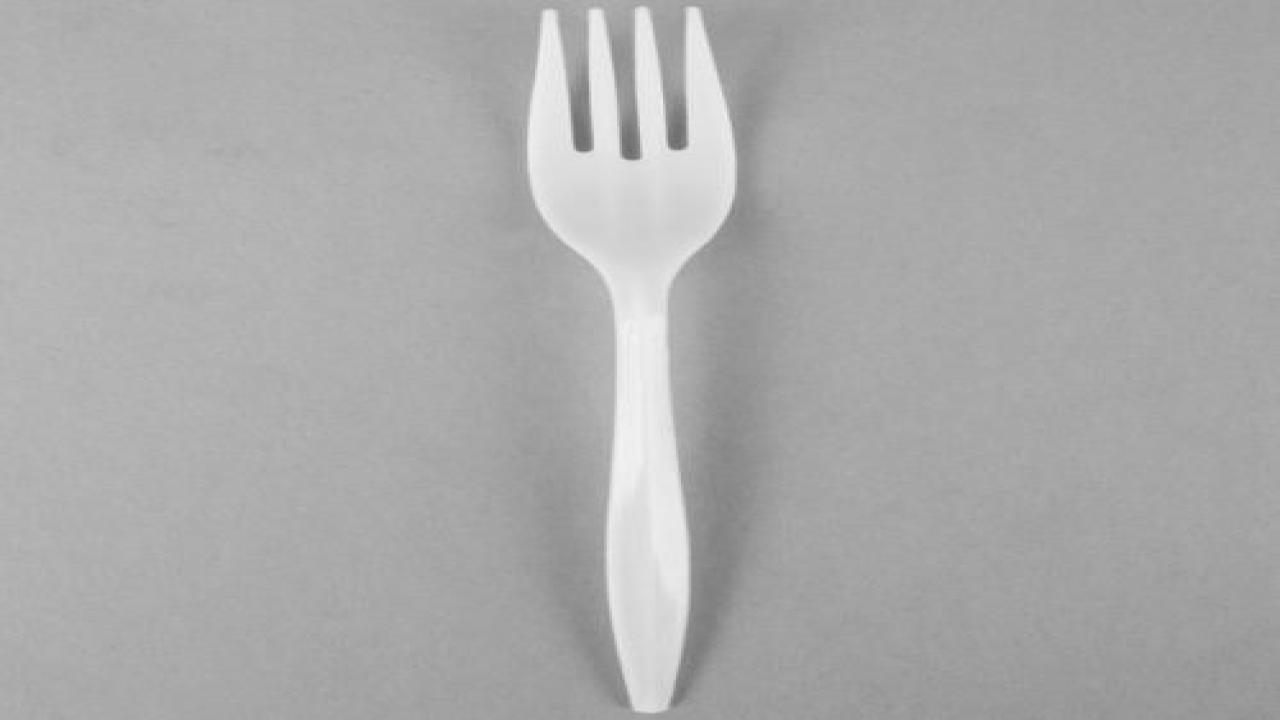fork: (522, 4, 738, 713)
